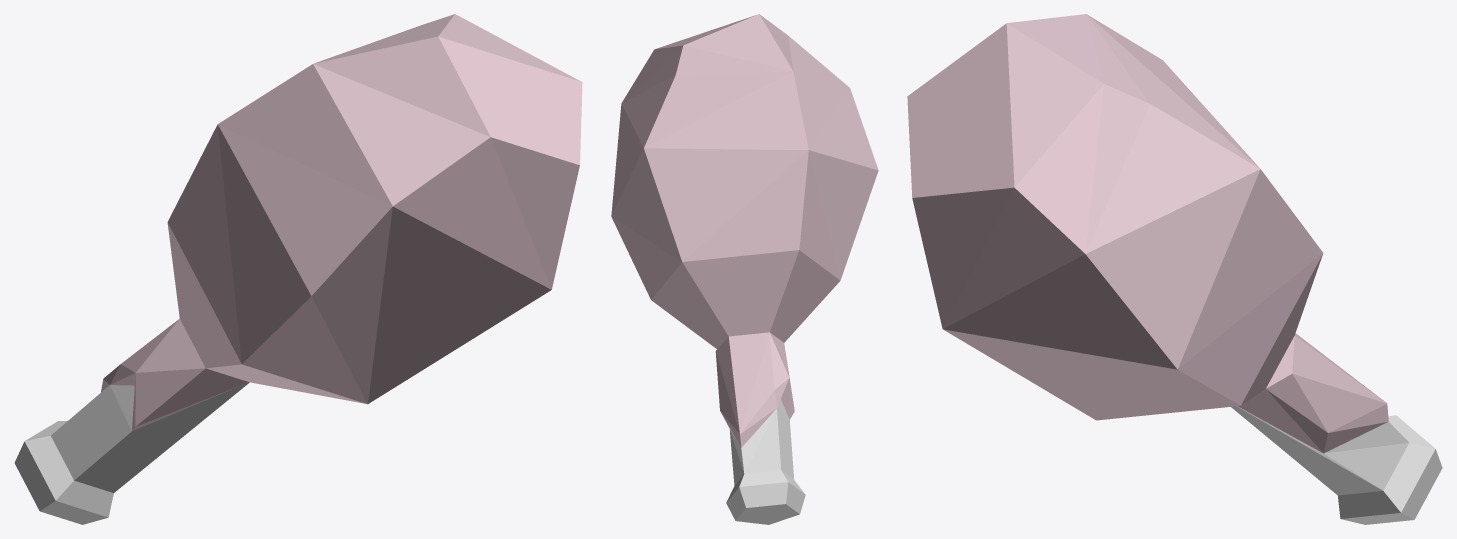
Rendered from turkeyLeg.fbx.
3 renders of one model, left to right at view 1: azimuth 30°, elevation 25°; view 2: azimuth 150°, elevation 25°; view 3: azimuth 270°, elevation 25°, orthographic. The views are drawn at different scales.
Visible parts, largest first — view 1: group_116540022; view 2: group_116540022; view 3: group_116540022.
Boxes of the visible parts, x1,y1,x2,y2 form: group_116540022: (14,14,582,524); group_116540022: (611,14,878,524); group_116540022: (907,14,1442,524).
Size of the model in its own units: 62.57 by 86.51 by 70.36.
